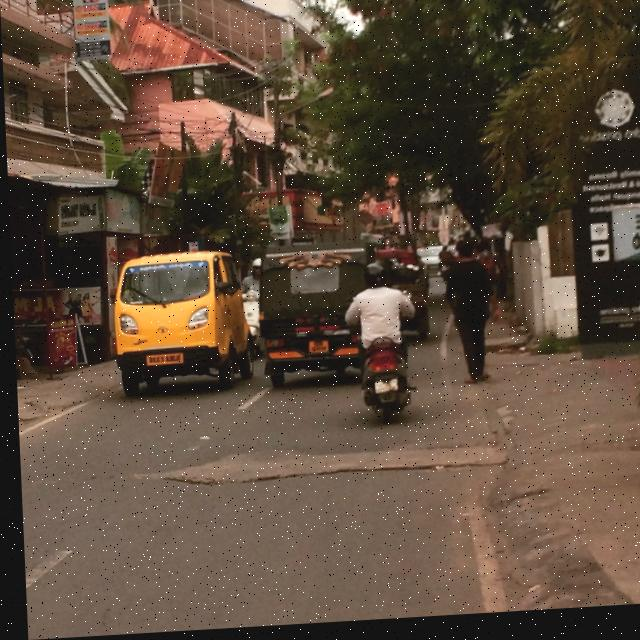plate: (140, 352, 184, 371), (365, 379, 400, 401), (301, 341, 327, 360)
